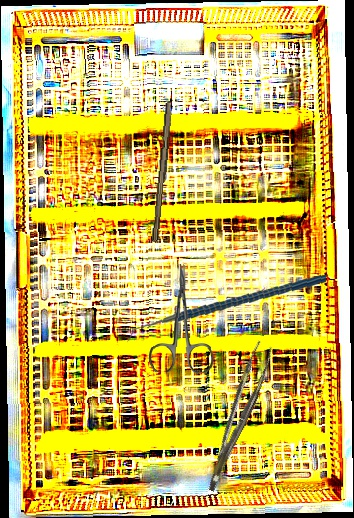Chopper: (127, 261, 327, 357)
Iris Scissors: (148, 263, 218, 374)
Scalpel Handle: (151, 100, 175, 243)
Tissue Forceps: (190, 340, 282, 492)
